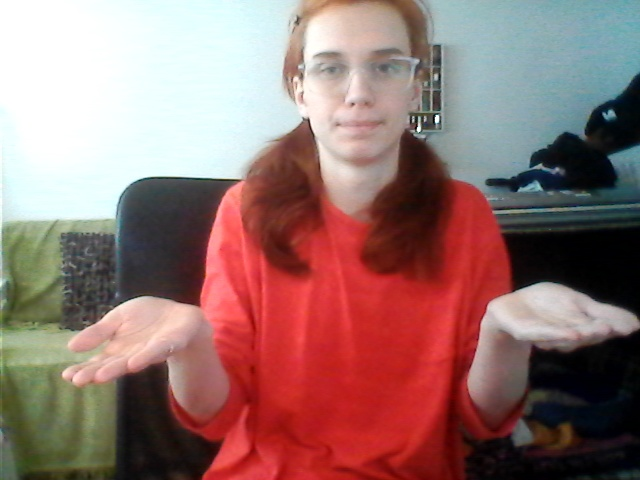alebo: (56, 279, 638, 390)
